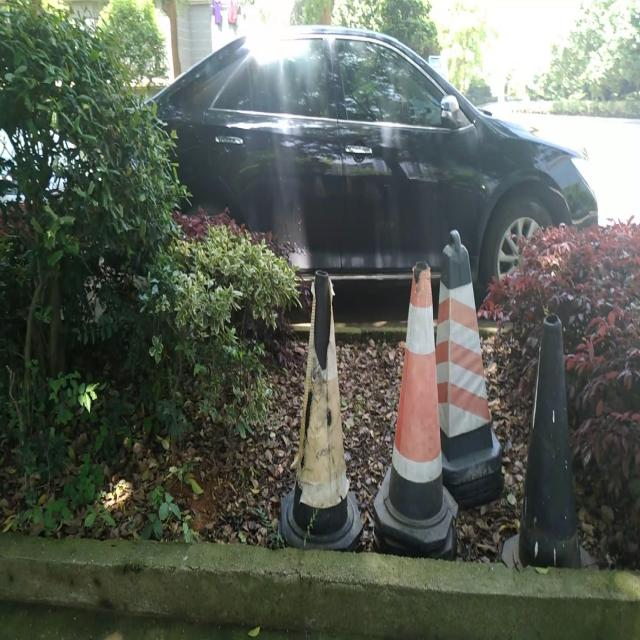car: (149, 23, 599, 302)
reflective_cone: (370, 258, 459, 548), (504, 314, 597, 574), (278, 271, 364, 543), (436, 231, 506, 500)
